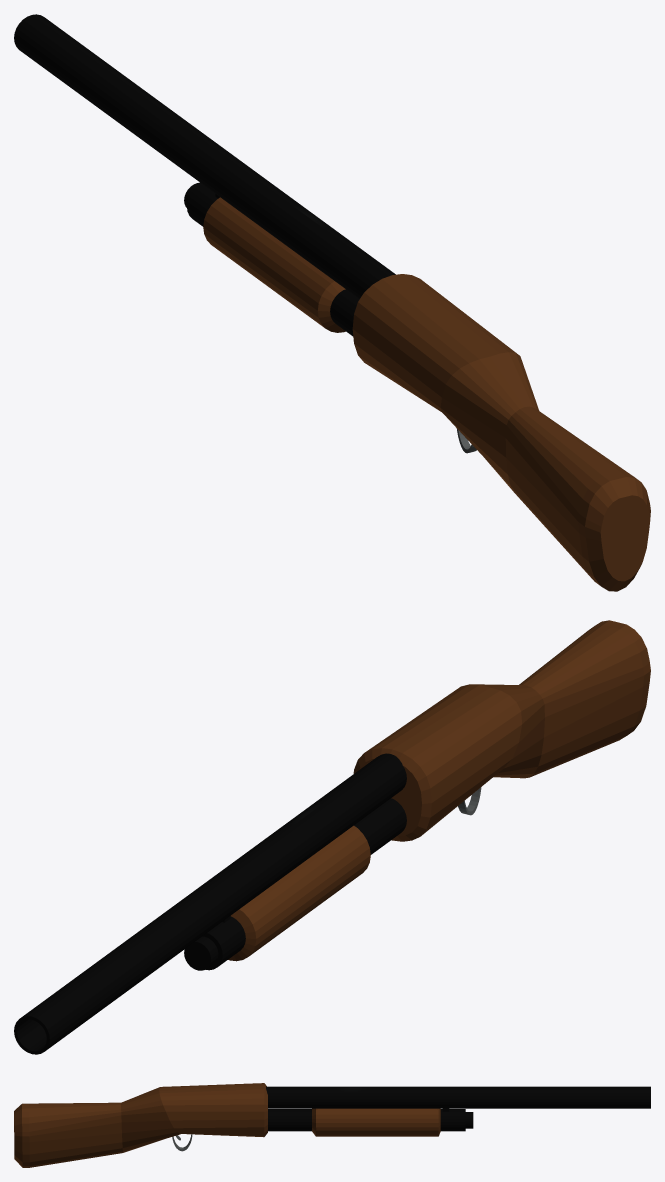
File: Shotgun_model.fbx
The picture shows the model from 3 angles, top to bottom: view 1: azimuth 30°, elevation 25°; view 2: azimuth 150°, elevation 25°; view 3: azimuth 270°, elevation 25°; orthographic projection. The views are drawn at different scales.
Visible parts, largest first — view 1: Cylinder.002, Cylinder, Cylinder.001; view 2: Cylinder.002, Cylinder, Cylinder.001; view 3: Cylinder.002, Cylinder, Cylinder.001.
Boxes of the visible parts, box(x1,y1,x2,y2) form: Cylinder.002: box(352, 274, 650, 591); Cylinder: box(14, 14, 395, 298); Cylinder.001: box(184, 182, 359, 336); Cylinder.002: box(353, 620, 650, 841); Cylinder: box(14, 753, 406, 1054); Cylinder.001: box(184, 798, 406, 970); Cylinder.002: box(14, 1083, 267, 1167); Cylinder: box(266, 1086, 650, 1108); Cylinder.001: box(268, 1108, 473, 1136).
Bounding box in the file's own units: 236 × 427 × 3033.
Materials: 3 (3 with a texture image).
